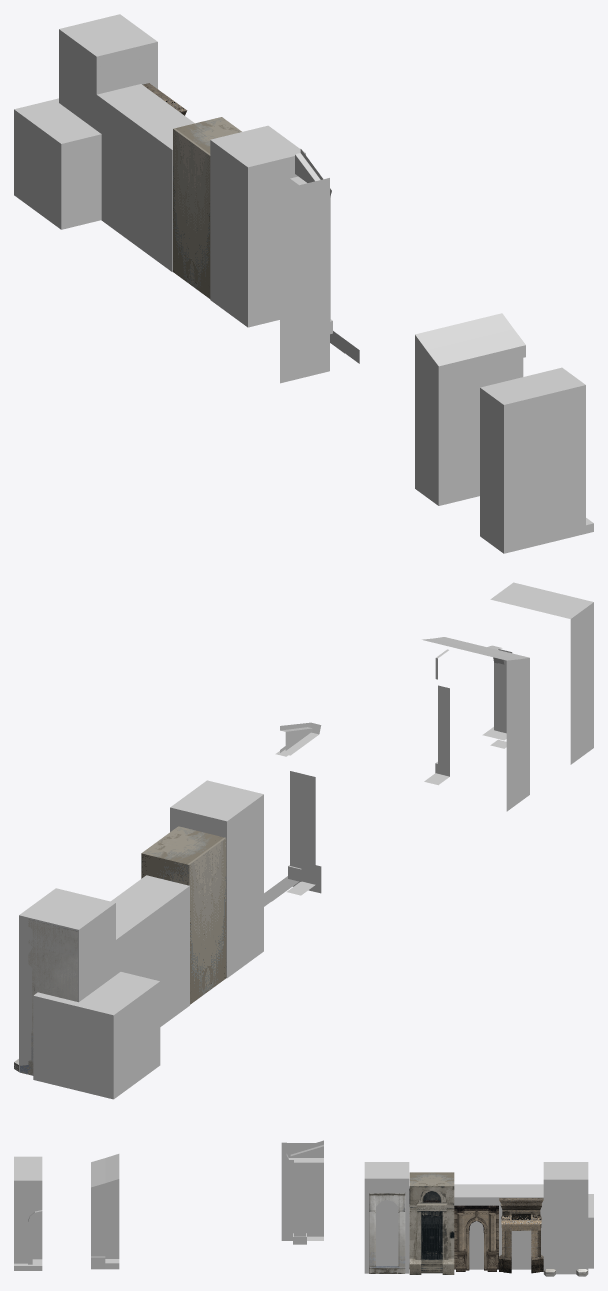
The model's file is tileset.glb.
3 views of the same model, one above another, from view 1: azimuth 30°, elevation 25°; view 2: azimuth 150°, elevation 25°; view 3: azimuth 270°, elevation 25° (orthographic). The views are drawn at different scales.
Visible parts, largest first — view 1: bov8, bov7, Cube-colonly.001, bov6, abov, Cube-colonly.004, bov4, Cube-colonly.003, Cube-colonly.002; view 2: abov, Cube-colonly.004, Cube-colonly.001, bov4, bov8, Cube-colonly.002, bov7, bov6, bov1, Cube-colonly.003; view 3: Cube-colonly.004, bov4, bov6, Cube-colonly.001, bov8, bov7, bov3, bov2, Cube-colonly.003, Cube-colonly.002, bov5, abov.
Part boxes in pixels (left/top/right/bottom): bov8: left=480, top=367, right=593, bottom=553; bov7: left=415, top=313, right=525, bottom=505; Cube-colonly.001: left=210, top=125, right=305, bottom=327; bov6: left=279, top=149, right=359, bottom=383; abov: left=14, top=98, right=101, bottom=229; Cube-colonly.004: left=59, top=14, right=157, bottom=130; bov4: left=173, top=117, right=241, bottom=298; Cube-colonly.003: left=96, top=84, right=178, bottom=244; Cube-colonly.002: left=134, top=111, right=194, bottom=271; abov: left=33, top=972, right=160, bottom=1099; Cube-colonly.004: left=19, top=888, right=115, bottom=1074; Cube-colonly.001: left=170, top=780, right=263, bottom=978; bov4: left=141, top=826, right=226, bottom=1004; bov8: left=482, top=582, right=593, bottom=764; Cube-colonly.002: left=111, top=875, right=189, bottom=1026; bov7: left=422, top=637, right=529, bottom=811; bov6: left=264, top=722, right=321, bottom=906; bov1: left=14, top=919, right=77, bottom=1075; Cube-colonly.003: left=116, top=904, right=152, bottom=979; Cube-colonly.004: left=543, top=1162, right=588, bottom=1274; bov4: left=409, top=1172, right=454, bottom=1274; bov6: left=281, top=1140, right=323, bottom=1244; Cube-colonly.001: left=364, top=1162, right=409, bottom=1273; bov8: left=14, top=1156, right=42, bottom=1270; bov7: left=91, top=1154, right=119, bottom=1269; bov3: left=454, top=1205, right=498, bottom=1271; bov2: left=499, top=1198, right=543, bottom=1273; Cube-colonly.003: left=499, top=1184, right=543, bottom=1269; Cube-colonly.002: left=454, top=1184, right=498, bottom=1269; bov5: left=369, top=1188, right=409, bottom=1273; abov: left=588, top=1194, right=593, bottom=1268.
Size of what is drawn, in the model's own units: 3.32 by 5.86 by 25.94.
Materials: 14 (13 with a texture image).
